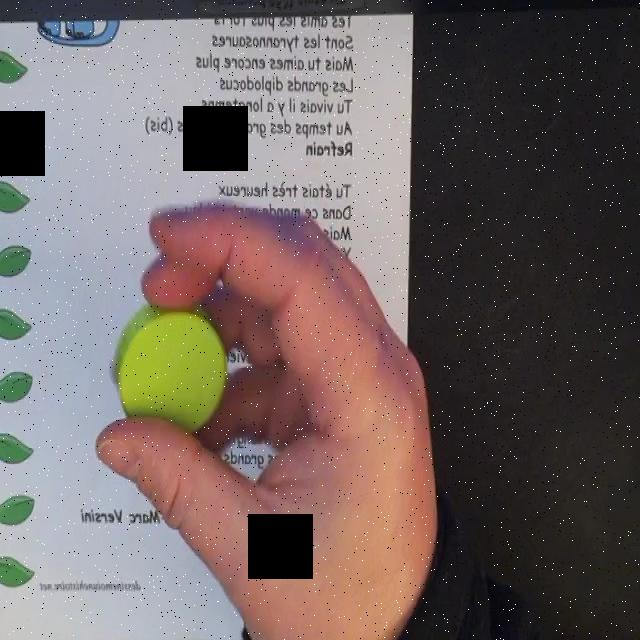round: (114, 297, 229, 439)
